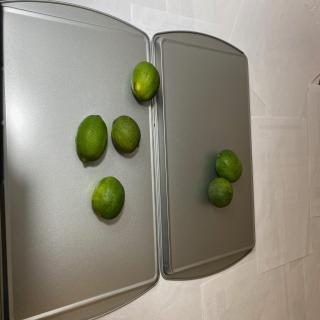Lemon: (75, 114, 108, 163), (91, 176, 125, 220), (111, 115, 141, 154), (131, 61, 160, 101), (215, 149, 242, 183), (208, 177, 233, 208)
